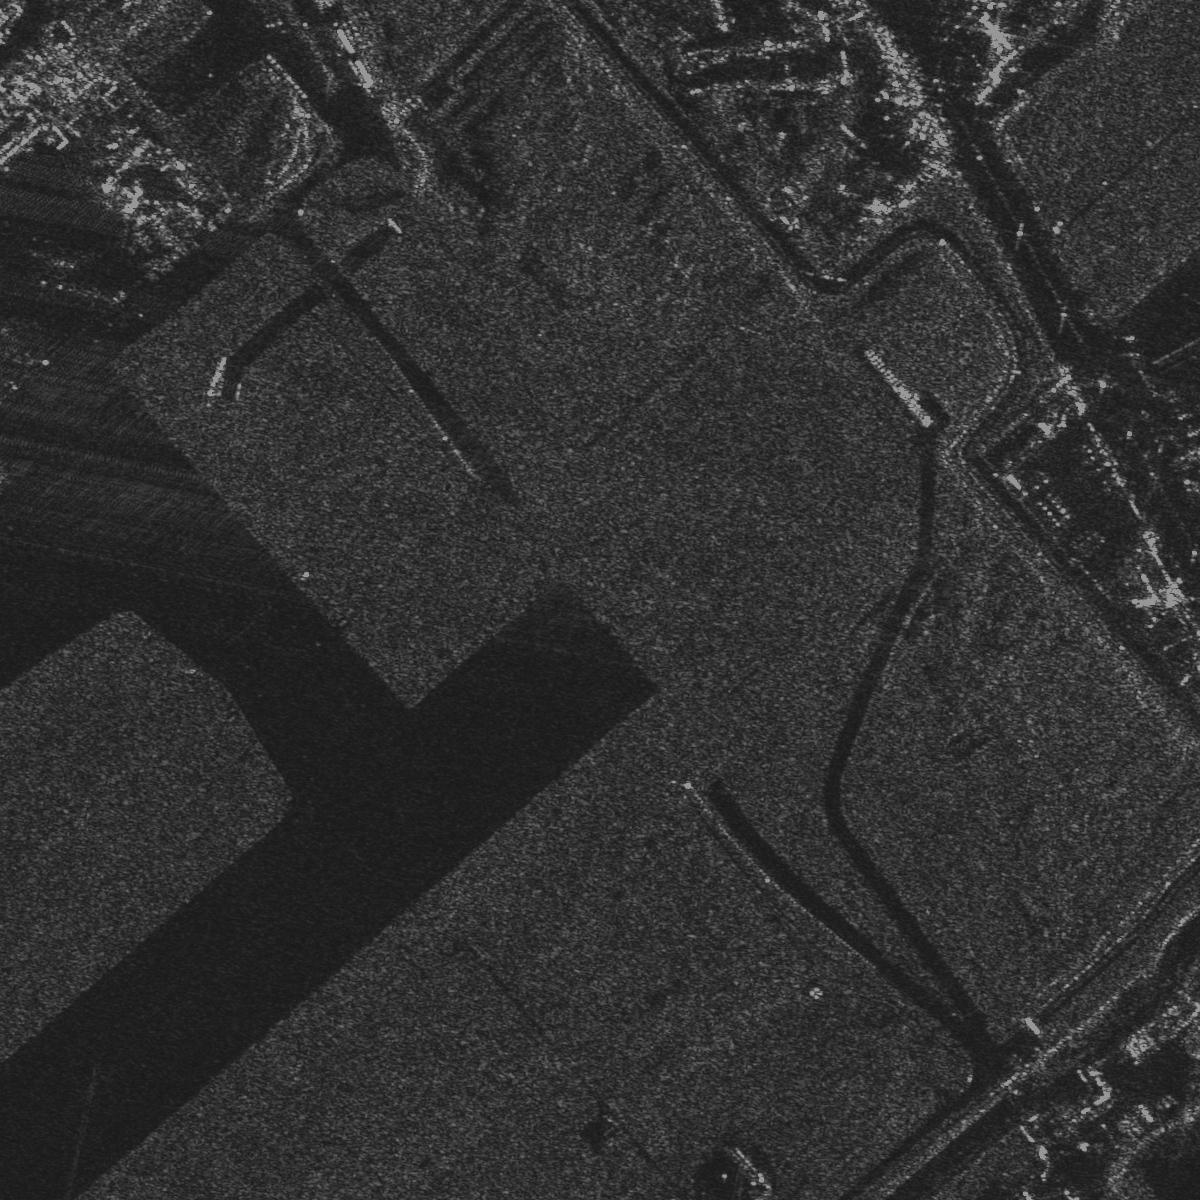Boeing737: (35, 245, 105, 305)
